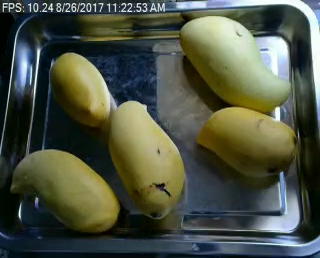Mango: (180, 16, 291, 112), (10, 149, 120, 234), (107, 100, 185, 217), (197, 106, 298, 175), (47, 53, 110, 124)
